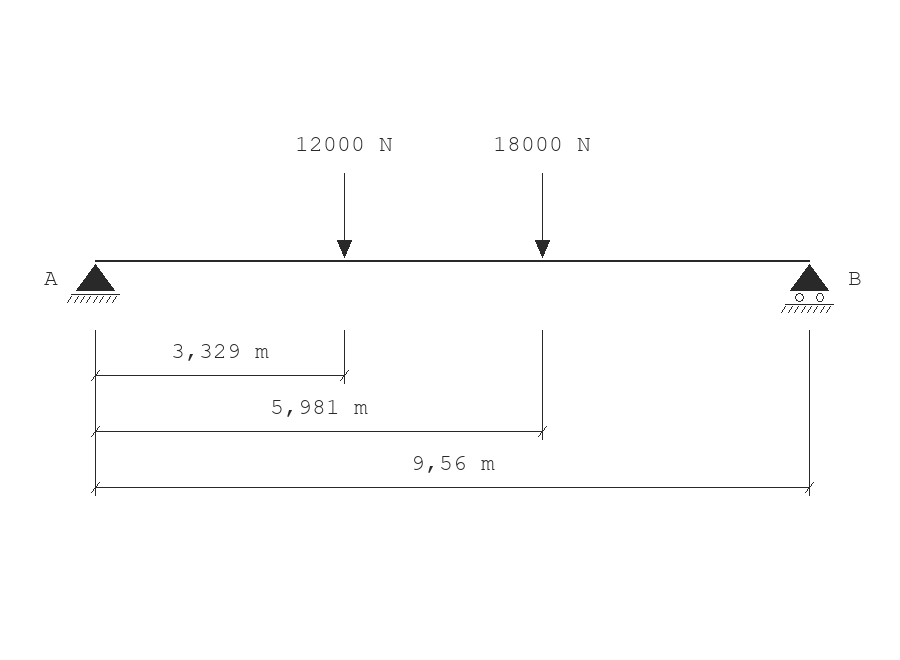pin_support: (67, 264, 120, 303)
point_load: (337, 173, 352, 258), (535, 173, 550, 258)
roller_support: (781, 264, 834, 313)
